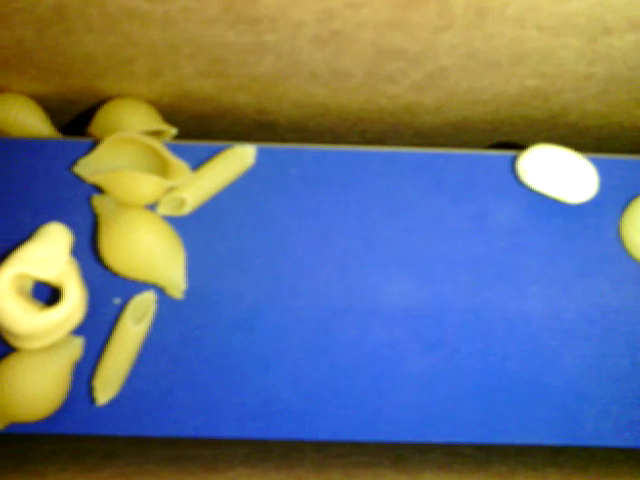penne: (153, 142, 257, 219), (90, 290, 156, 408)
shell: (89, 193, 188, 298), (1, 331, 87, 435), (65, 135, 194, 204), (86, 95, 177, 139), (1, 85, 64, 137)
tortellini: (1, 218, 88, 348)
